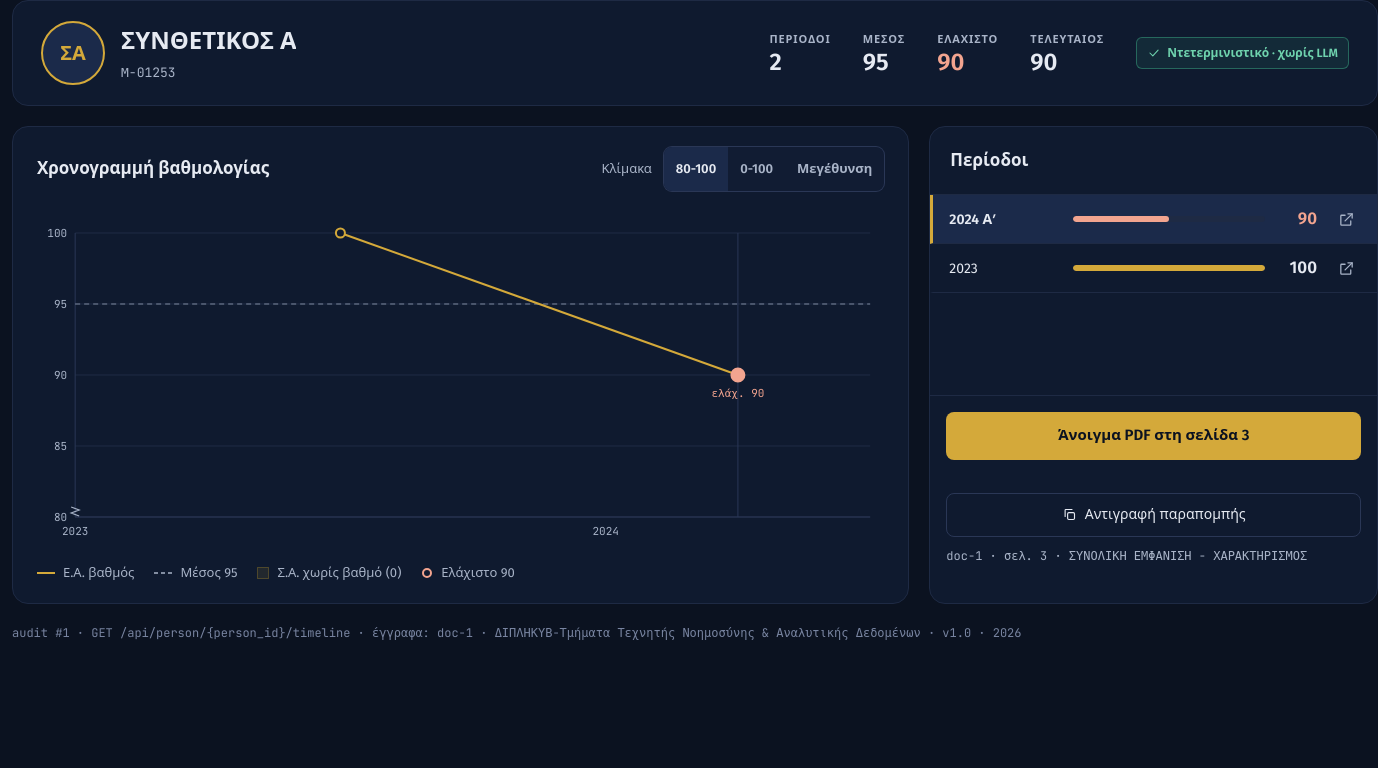
Test: TimelinePanel: άνοιγμα PDF › while a request is in flight, a second click sends nothing
Click the button "Άνοιγμα PDF στη σελίδα 3" at point(1154, 436), box x1=946 y1=412 x2=1361 y2=460
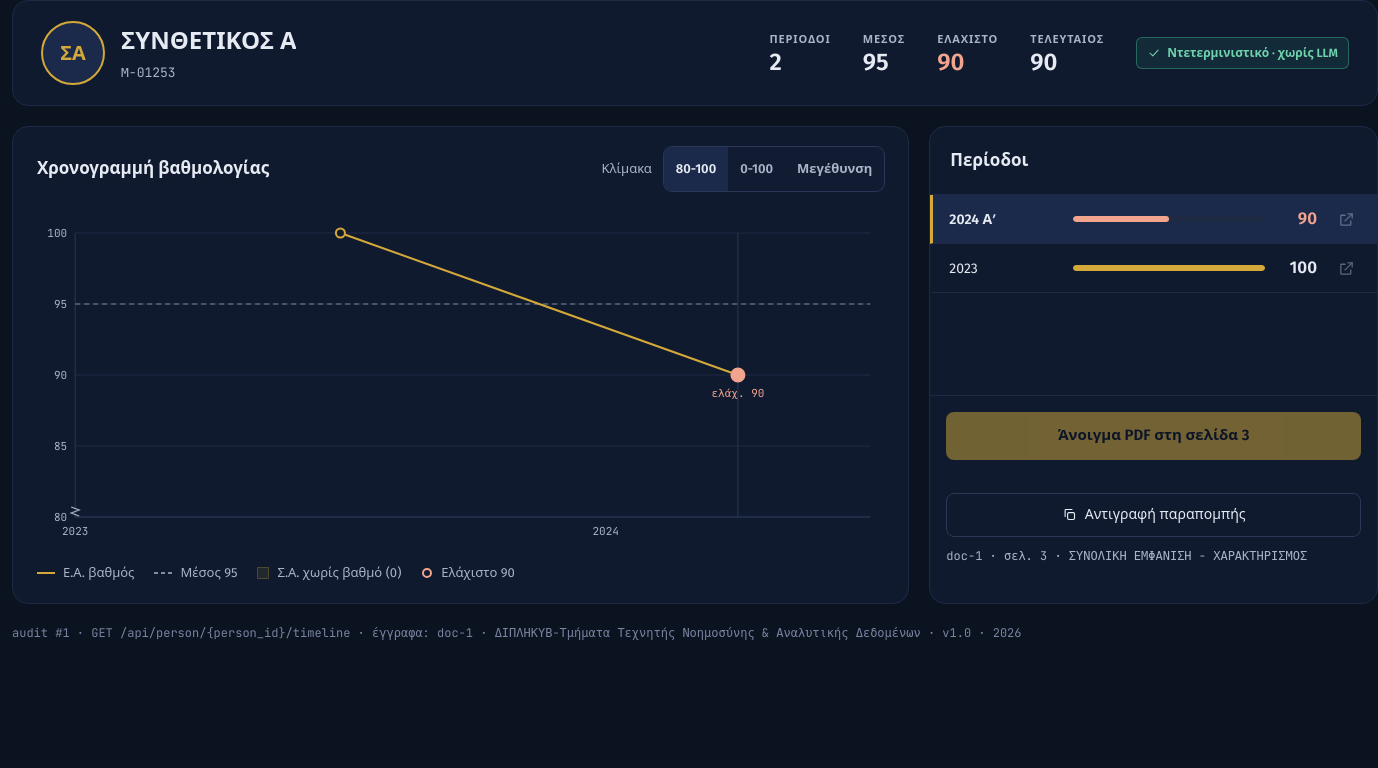
Expected: the button "Άνοιγμα PDF στη σελίδα 3" is disabled
Click the button "Άνοιγμα PDF στη σελίδα 3" at point(1154, 436), box x1=946 y1=412 x2=1361 y2=460
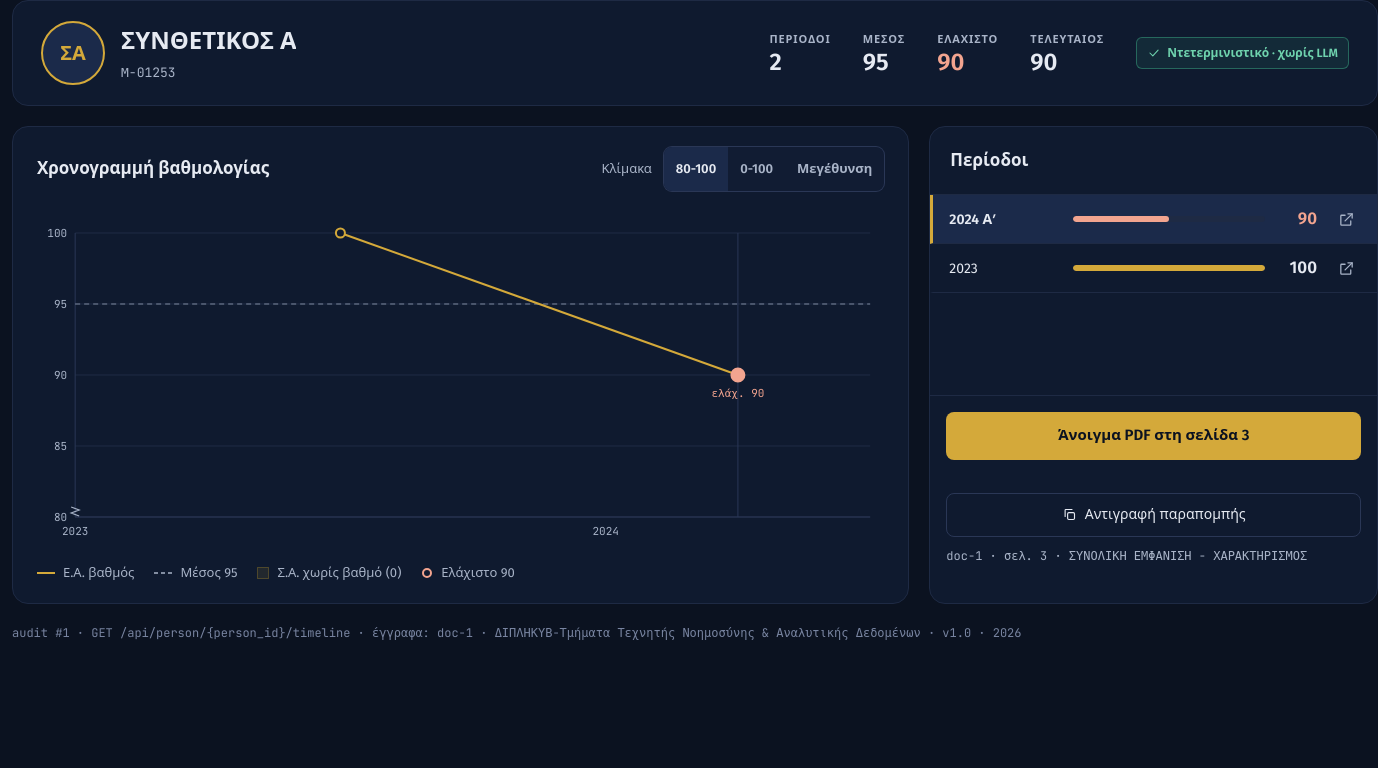
Expected: the button "Άνοιγμα PDF στη σελίδα 3" is enabled, x1=946 y1=412 x2=1361 y2=460
